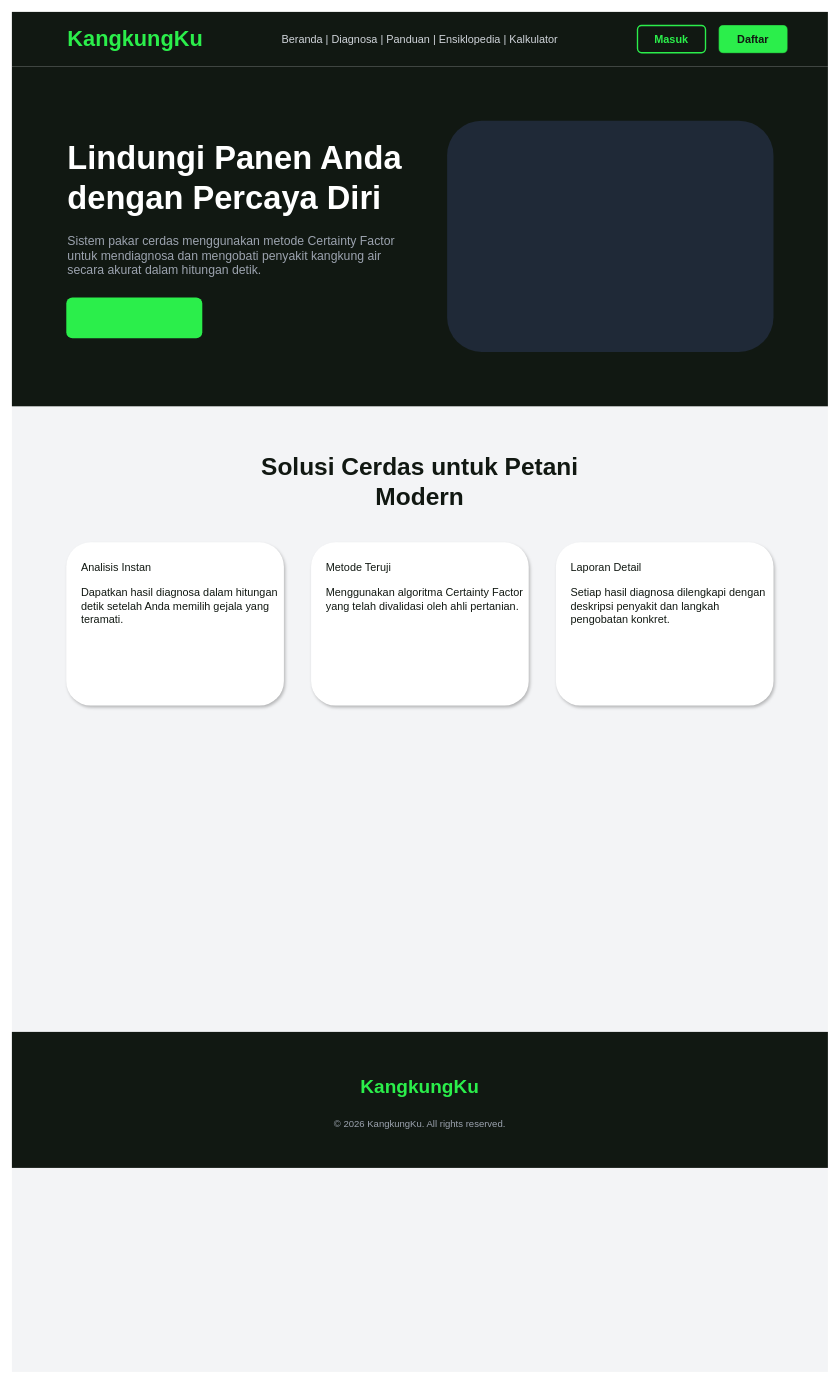
Some shapes in this 839 by 1383 pixel diagram are drawn without their labels. The shapes that lost their labels are listed below. From the top down, each one's centre as x and y in pixels, then its label:
(610,236): [Hero Image Kangkung]
(134,317): Mulai Diagnosa
